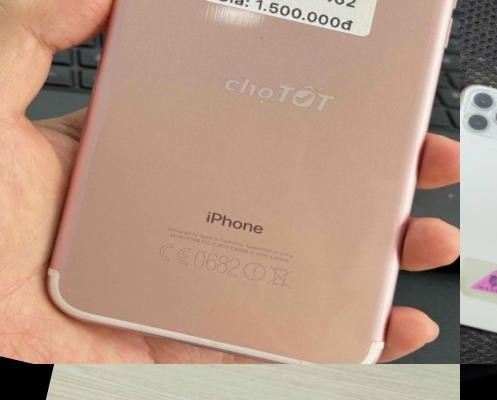physical_damage: (461, 85, 497, 140), (460, 130, 482, 178), (460, 175, 473, 212)
scratch: (180, 330, 232, 360), (253, 22, 277, 48), (279, 349, 318, 364), (99, 290, 130, 307)
